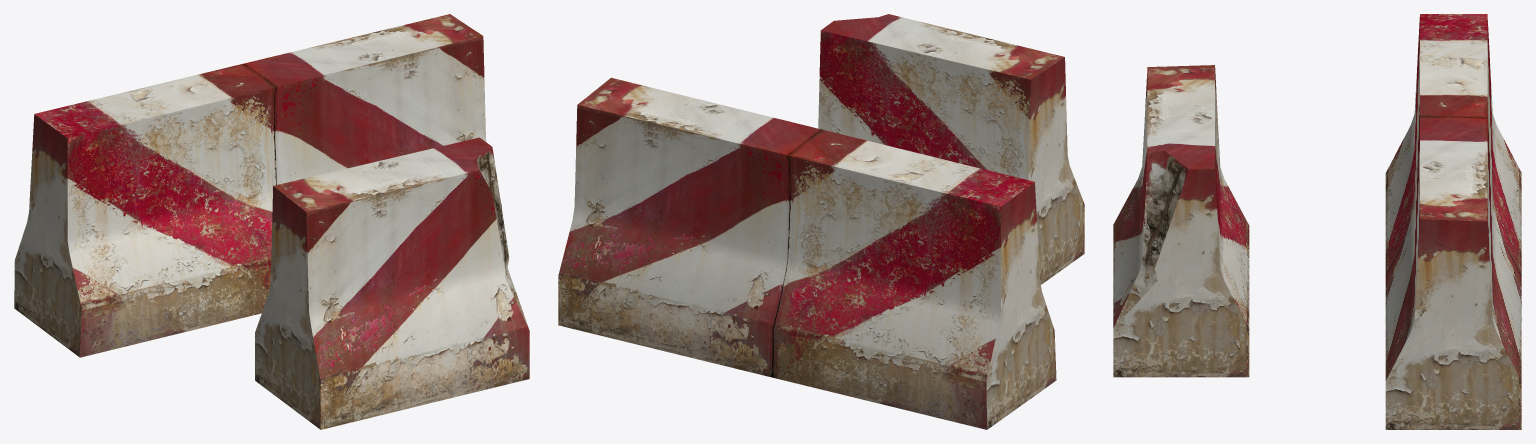
File: roadblocks.FBX
The picture shows the model from 3 angles, left to right: view 1: azimuth 30°, elevation 25°; view 2: azimuth 150°, elevation 25°; view 3: azimuth 270°, elevation 25°; orthographic projection.
Visible parts, largest first — view 1: roadblock1, roadblock2; view 2: roadblock1, roadblock2; view 3: roadblock1, roadblock2.
Boxes of the visible parts, box(x1,y1,x2,y2) form: roadblock1: box(14, 14, 501, 357); roadblock2: box(255, 137, 529, 429); roadblock1: box(558, 77, 1056, 429); roadblock2: box(818, 14, 1084, 284); roadblock1: box(1385, 14, 1521, 429); roadblock2: box(1113, 65, 1249, 377).
Size of the model in its own units: 182 by 85.28 by 150.
